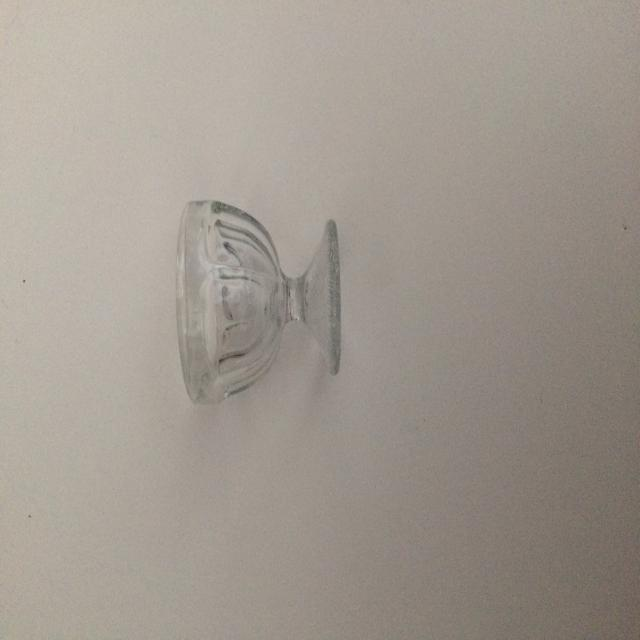glass: (176, 200, 343, 410)
